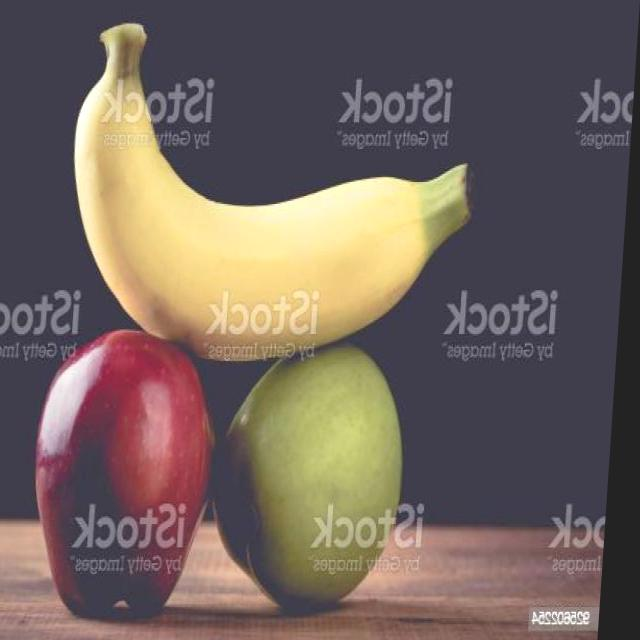banana: (56, 16, 496, 369)
